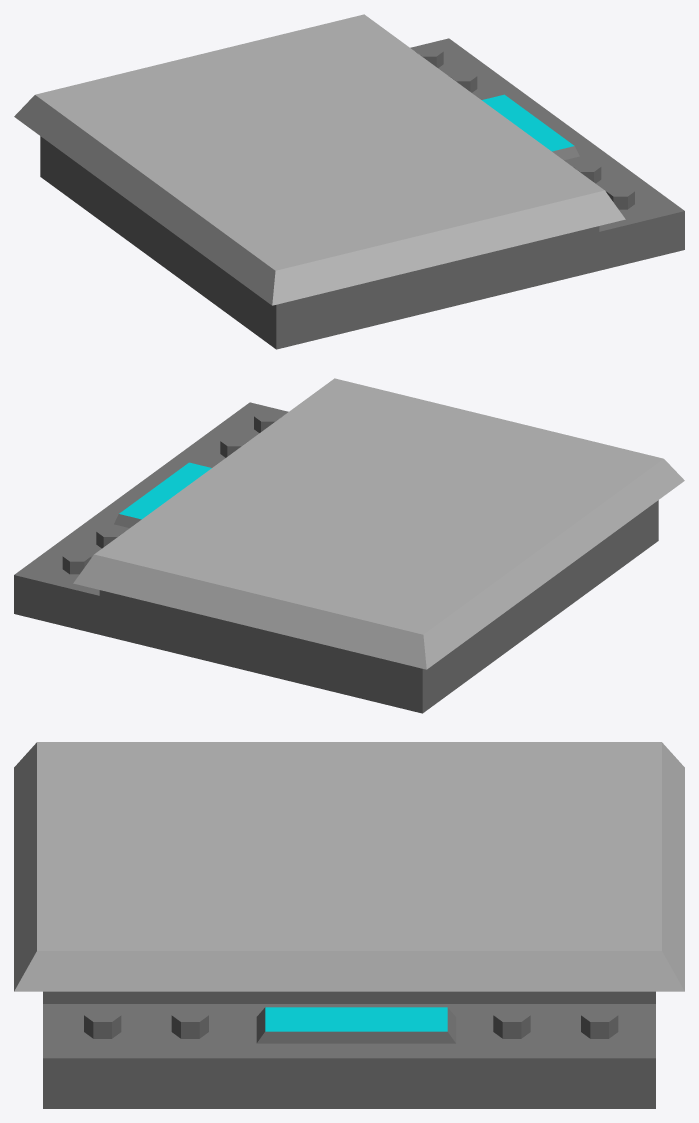
The model's file is drug scale1.fbx.
3 renders of one model, top to bottom at view 1: azimuth 30°, elevation 25°; view 2: azimuth 150°, elevation 25°; view 3: azimuth 270°, elevation 25°, orthographic. The views are drawn at different scales.
Visible parts, largest first — view 1: Cube, Cube_cell.003, Cube_cell.004, Cube_cell.001, Cylinder; view 2: Cube, Cube_cell.001, Cube_cell.004, Cube_cell.003, Cylinder.002; view 3: Cube, Cube_cell.004, Cube_cell.001, Cube_cell.003, Cube_cell, Cylinder.001, Cylinder.002, Cylinder.003, Cylinder, Cube_cell.002.
Part boxes in pixels (box(x1,y1,x2,y2)): Cube: box(40, 44, 684, 349); Cube_cell.003: box(84, 126, 684, 349); Cube_cell.004: box(62, 44, 576, 156); Cube_cell.001: box(14, 14, 488, 151); Cylinder: box(606, 186, 634, 209); Cube: box(20, 378, 684, 713); Cube_cell.001: box(14, 525, 474, 712); Cube_cell.004: box(55, 472, 481, 667); Cube_cell.003: box(250, 382, 658, 663); Cylinder.002: box(62, 551, 91, 574); Cube: box(14, 742, 684, 1108); Cube_cell.004: box(323, 742, 562, 1089); Cube_cell.001: box(551, 742, 684, 1108); Cube_cell.003: box(14, 742, 529, 1083); Cube_cell: box(43, 1048, 335, 1108); Cylinder.001: box(171, 1008, 208, 1038); Cylinder.002: box(581, 1008, 618, 1038); Cylinder.003: box(493, 1008, 530, 1038); Cylinder: box(84, 1008, 121, 1038); Cube_cell.002: box(337, 1067, 563, 1108).
Bounding box in the file's own units: 207 × 38.04 × 219.
